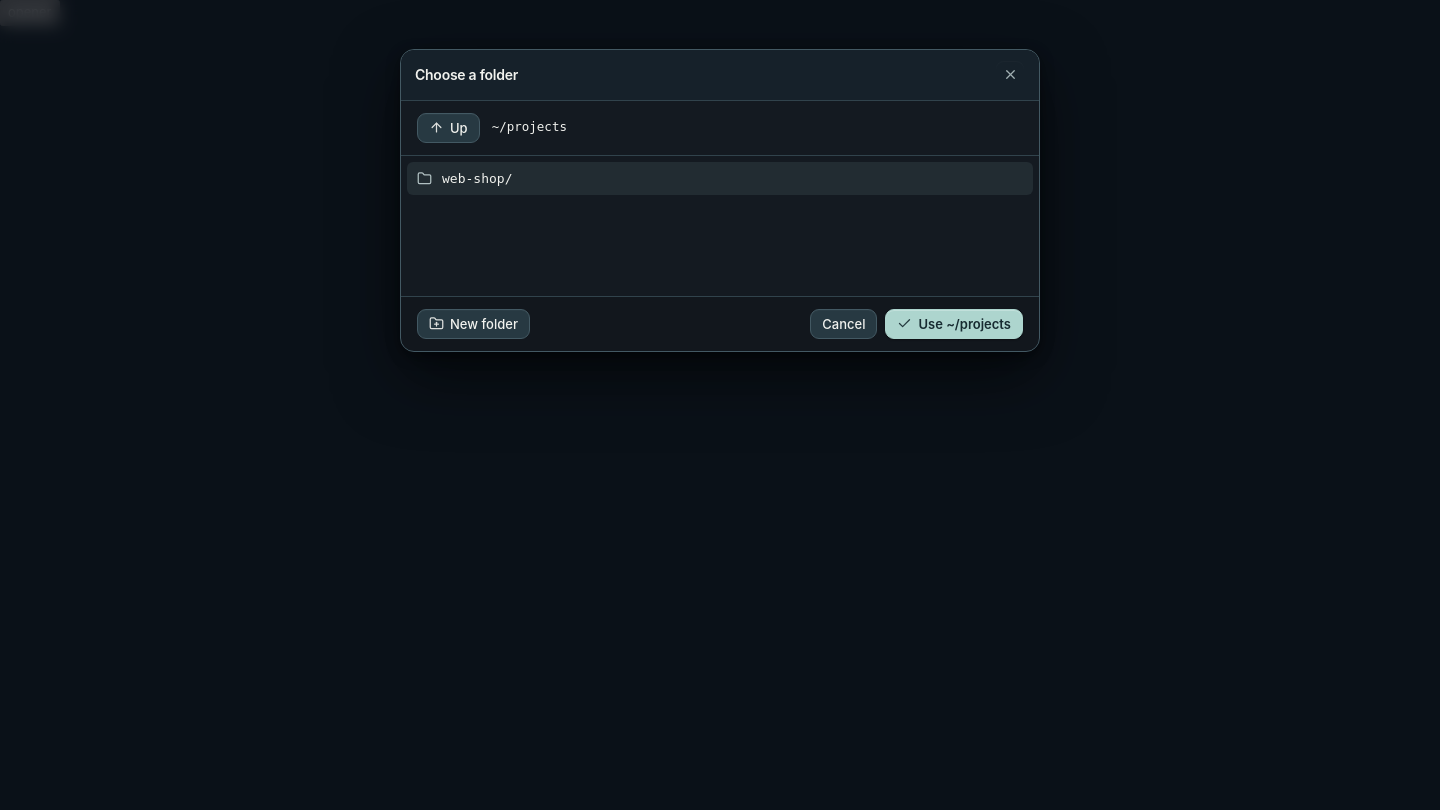
FolderPicker › creates a folder with a fresh request id per attempt and shows refusals in plain words
Expected: the button with aria-label "Open web-shop" is shown, [407,162,1033,195]
Click the button "New folder".
click(473, 324)  # box [417,309,530,339]
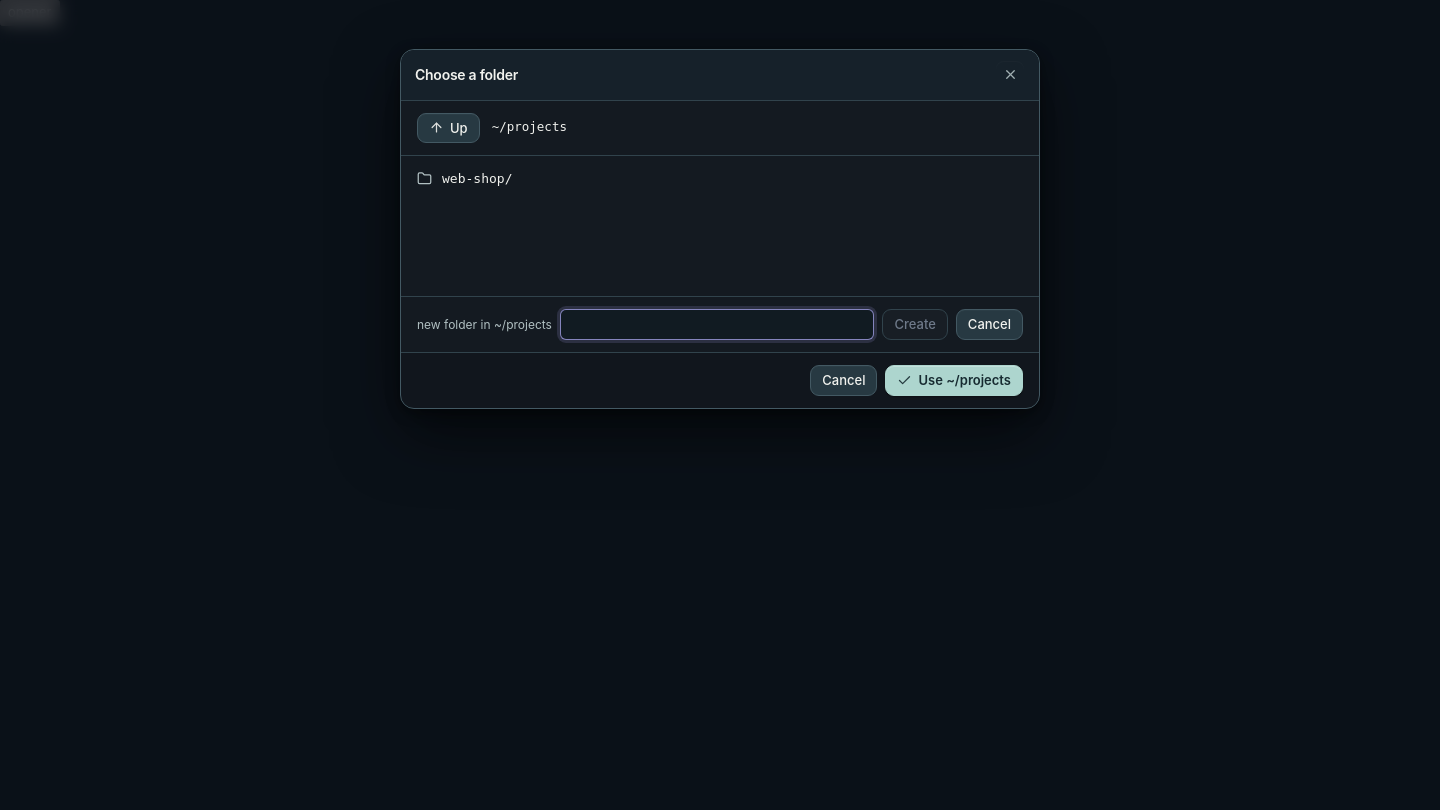
Type "web-shop" into the field labelled "new folder in ~/projects".
click(717, 325); type("web-shop")  # box [560,309,874,340]
Then press Enter
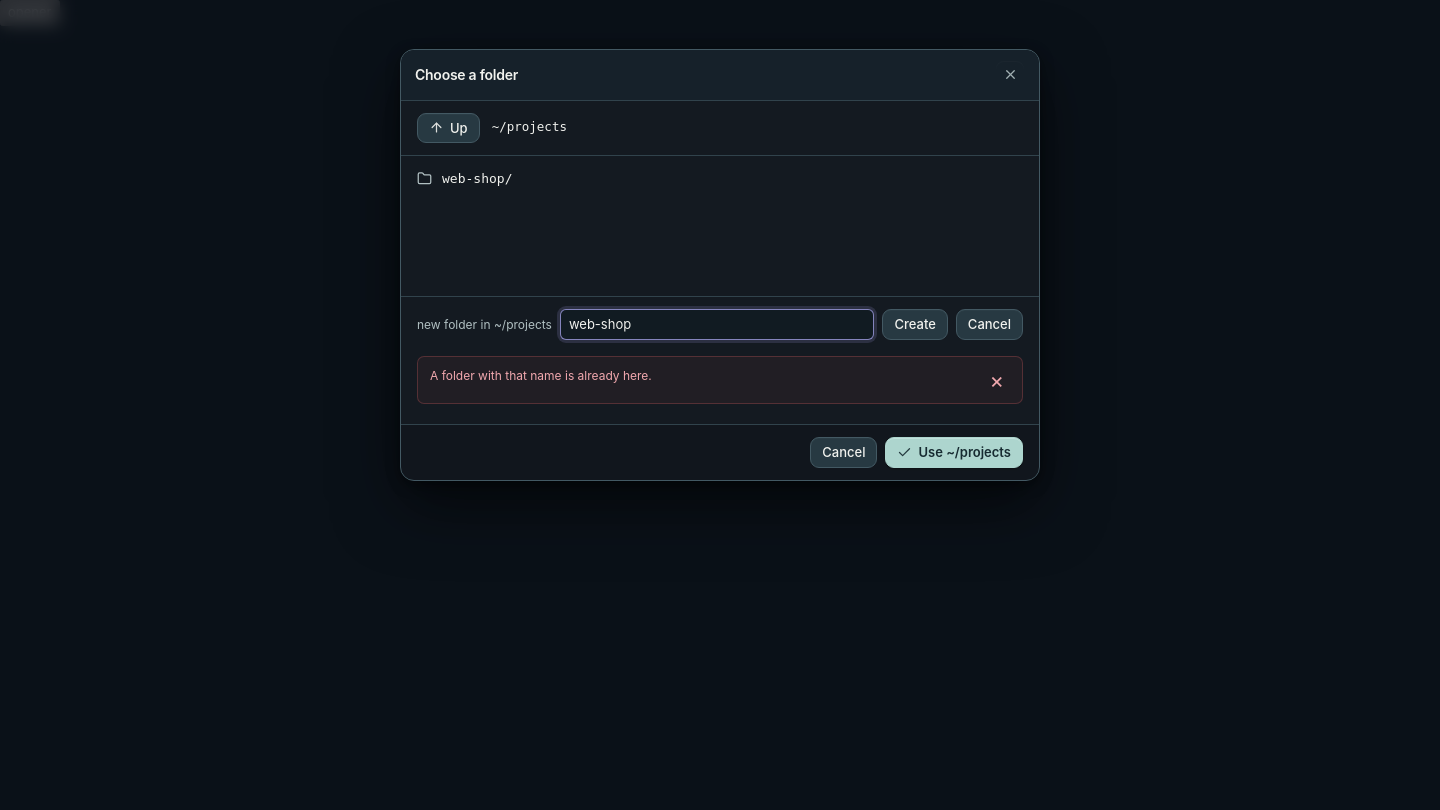
Expected: the message shows "A folder with that name is already here.", [430,368,652,383]
Click the button "Create".
click(915, 325)  # box [882,310,948,340]
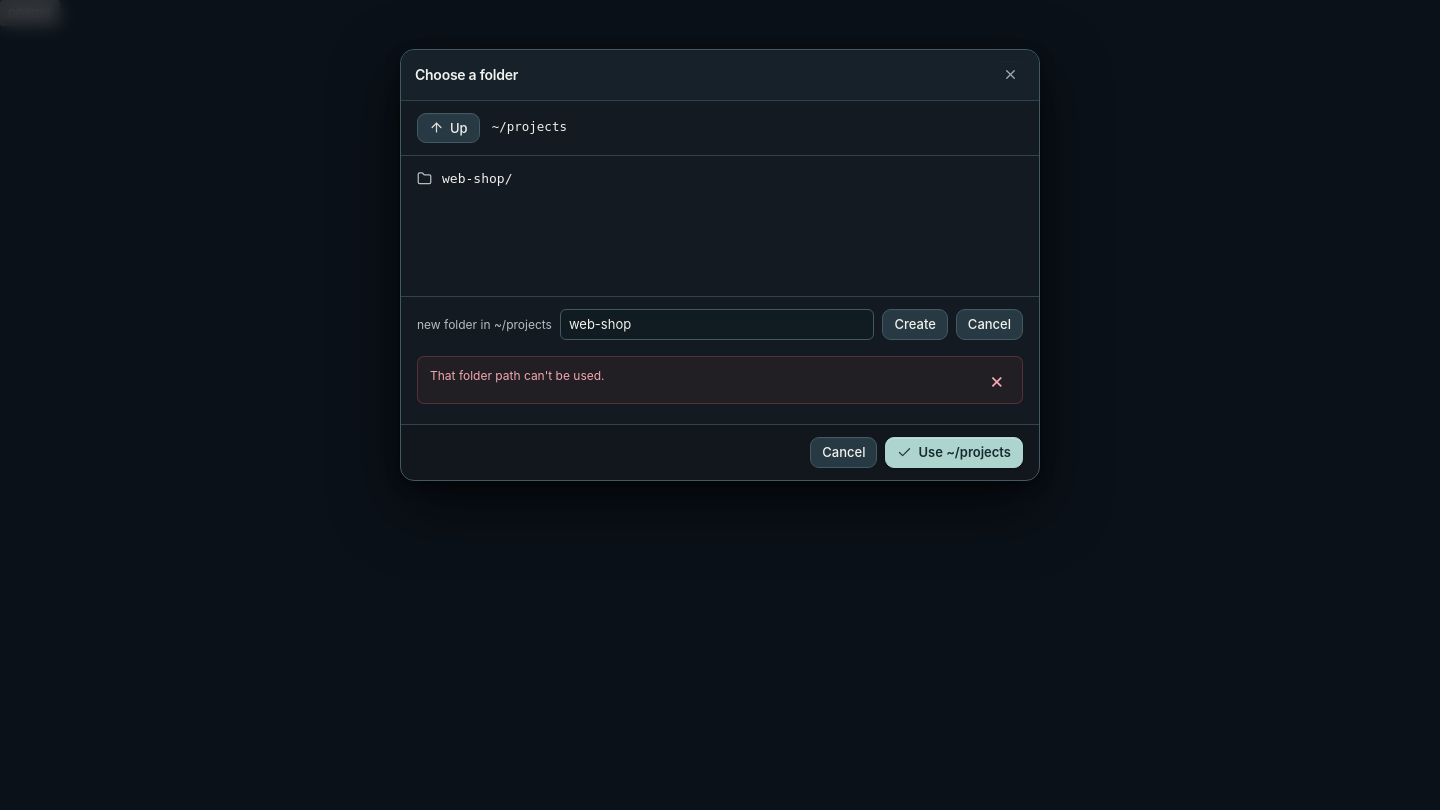
Expected: the message shows "That folder path can't be used.", [430,368,605,383]
Replace the text in the field labelled "new folder in ~/projects" with "new-app" at {"x": 717, "y": 325}, box [560,309,874,340]
Then press Enter
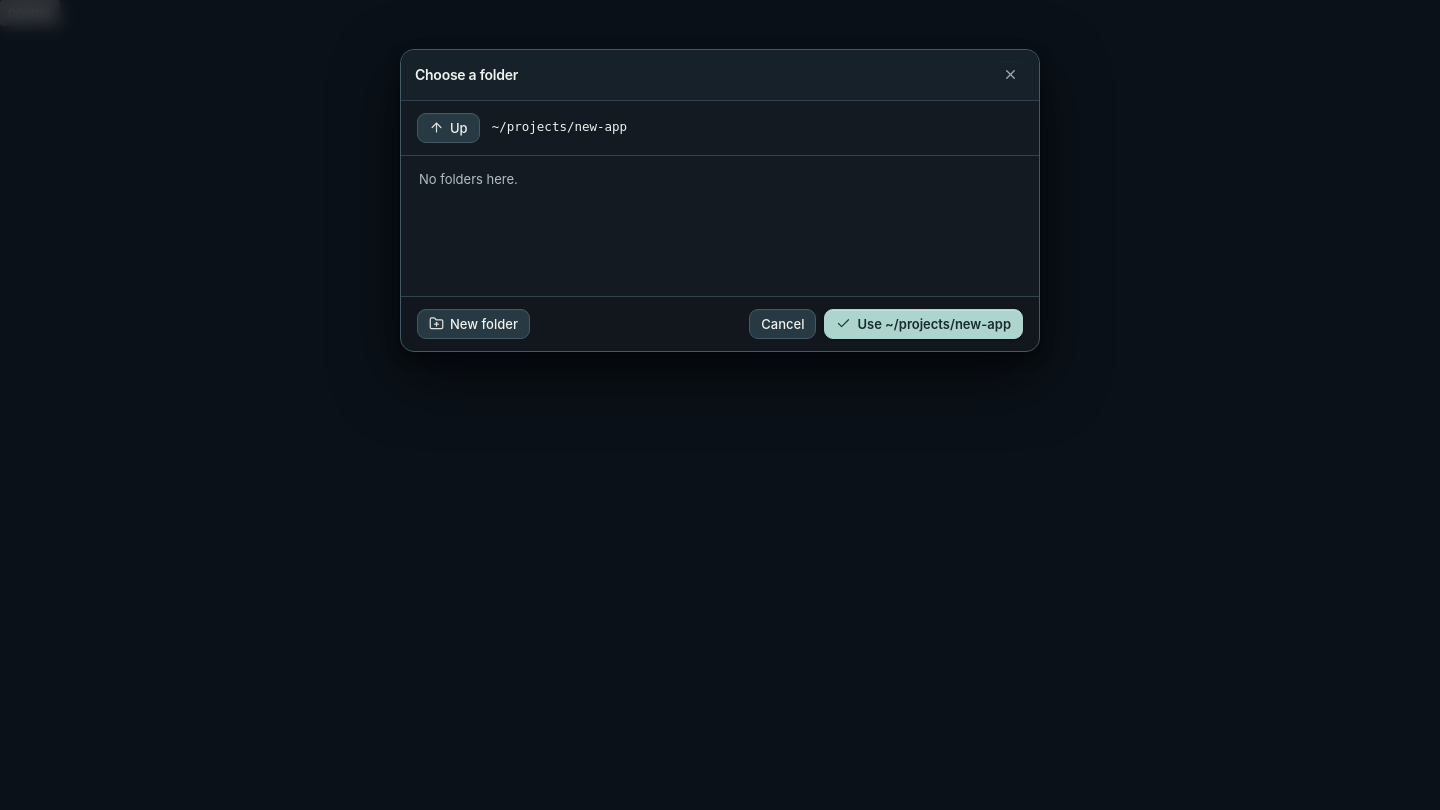
Expected: the text "~/projects/new-app" is shown, [492,119,627,134]
